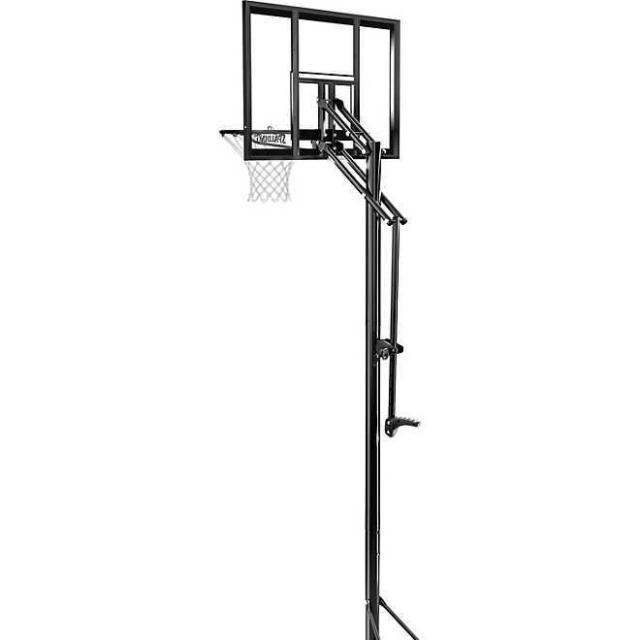hoop: (220, 129, 296, 202)
